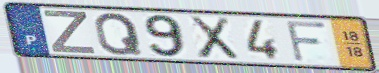4: (245, 19, 282, 62)
9: (143, 13, 188, 59)
F: (283, 19, 329, 64)
Q: (92, 11, 145, 57)
X: (186, 15, 241, 61)
Z: (42, 9, 99, 56)
